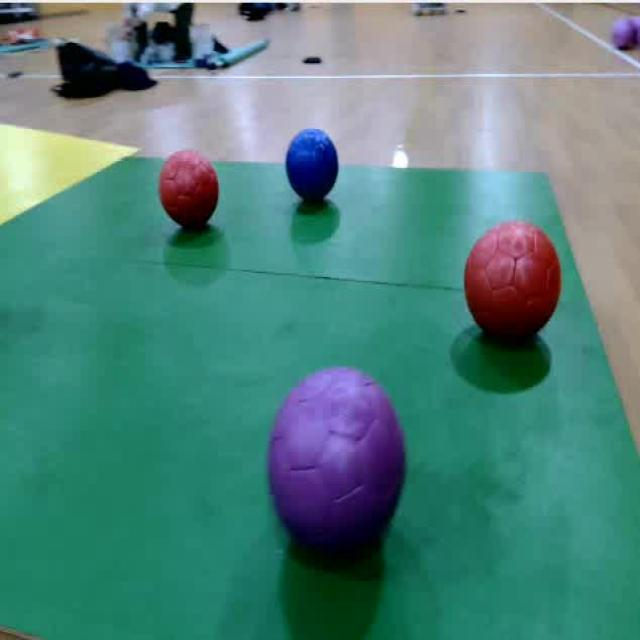blue_ball: (285, 126, 341, 209)
purple_ball: (268, 366, 409, 560), (612, 14, 638, 54)
red_ball: (463, 223, 561, 344), (158, 145, 218, 238)
